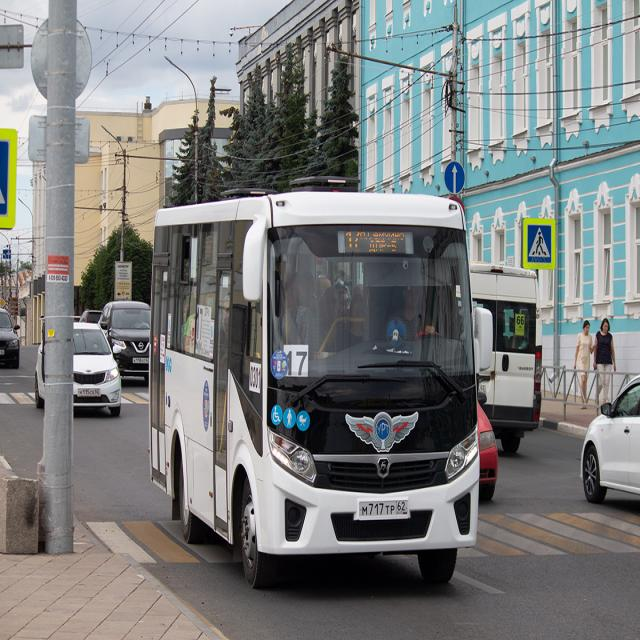number-of-bus: (285, 346, 309, 379)
